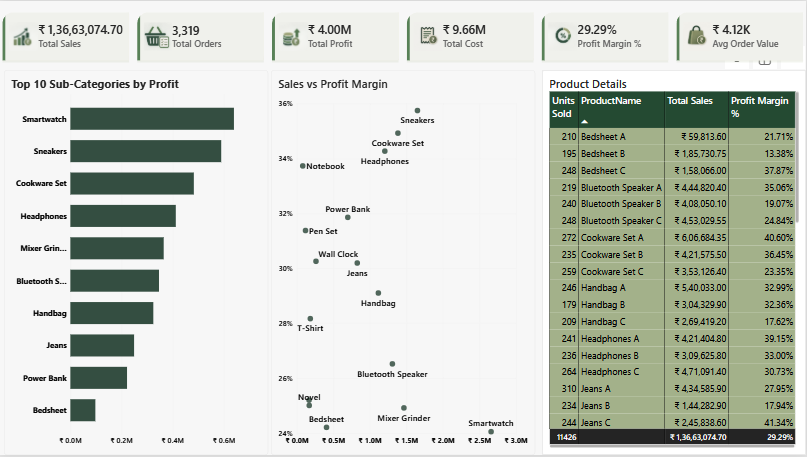

The page's visual inventory and layout, read from the dashboard file:
{"tool":"powerbi","page":{"name":"Product Performance","canvas":[1920,1080],"ordinal":1},"visuals":[{"type":"clusteredBarChart","title":"Top 10 Sub-Categories by Profit","fields":{"Category":["products.SubCategory"],"Y":["_Measures.Total Profit"]},"box":[9.5,164.3,628.6,916.7],"z":0},{"type":"scatterChart","title":"Sales vs Profit Margin","fields":{"Category":["products.SubCategory"],"X":["_Measures.Total Sales"],"Y":["_Measures.Profit Margin %"]},"box":[645.2,164.3,628.6,916.7],"z":1000},{"type":"tableEx","title":"Product Details","fields":{"Values":["_Measures.Units Sold","products.ProductName","_Measures.Total Sales","_Measures.Profit Margin %"]},"box":[1290.5,164.3,628.6,916.7],"z":2000},{"type":"cardVisual","fields":{"Data":["_Measures.Total Sales","_Measures.Total Orders","_Measures.Total Profit","_Measures.Total Cost","_Measures.Profit Margin %","_Measures.Avg Order Value"]},"box":[0,21.4,1919,126.2],"z":3000}]}

Visuals, with their boxes in screenshot pixels (x1, y1, x2, y2), scaled from the page's 1920x1080 canvas onto the 807x457 screenshot:
"Top 10 Sub-Categories by Profit" clusteredBarChart: 4 70 268 456
"Sales vs Profit Margin" scatterChart: 271 70 535 456
"Product Details" tableEx: 542 70 806 456
cardVisual - _Measures.Total Sales x _Measures.Total Orders: 0 9 806 62
